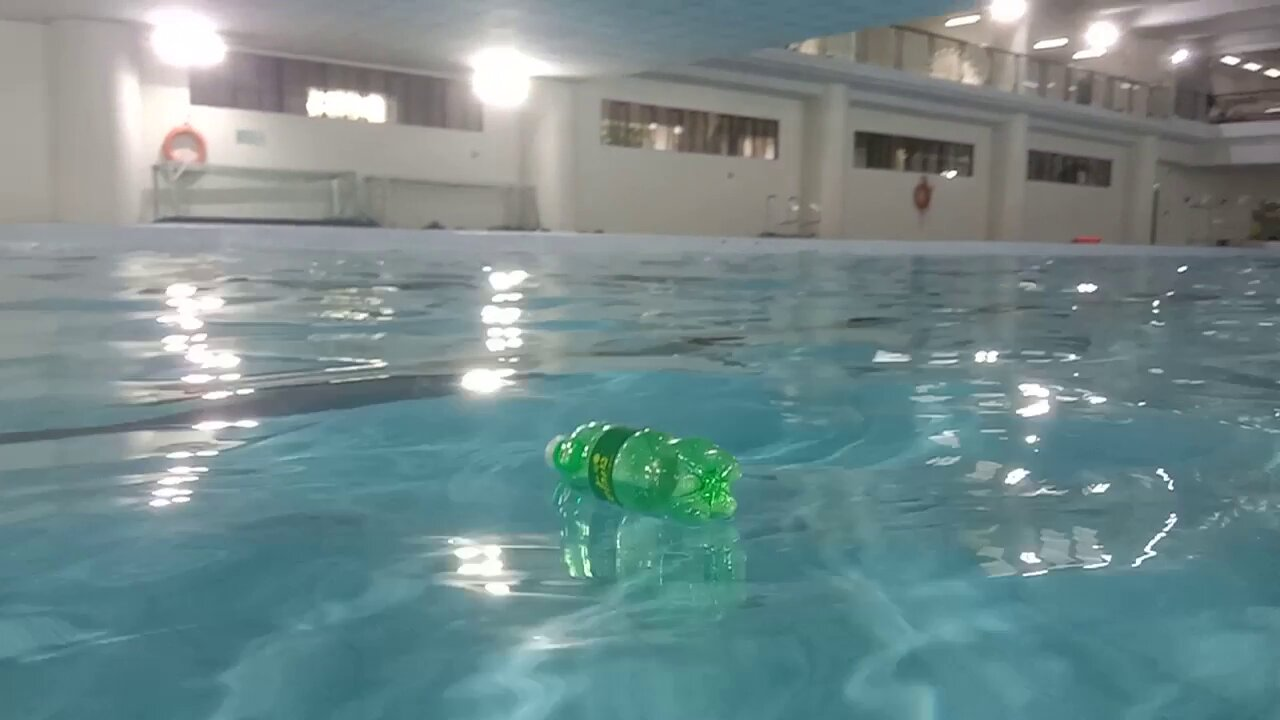plastic_bottle: (545, 422, 743, 523)
